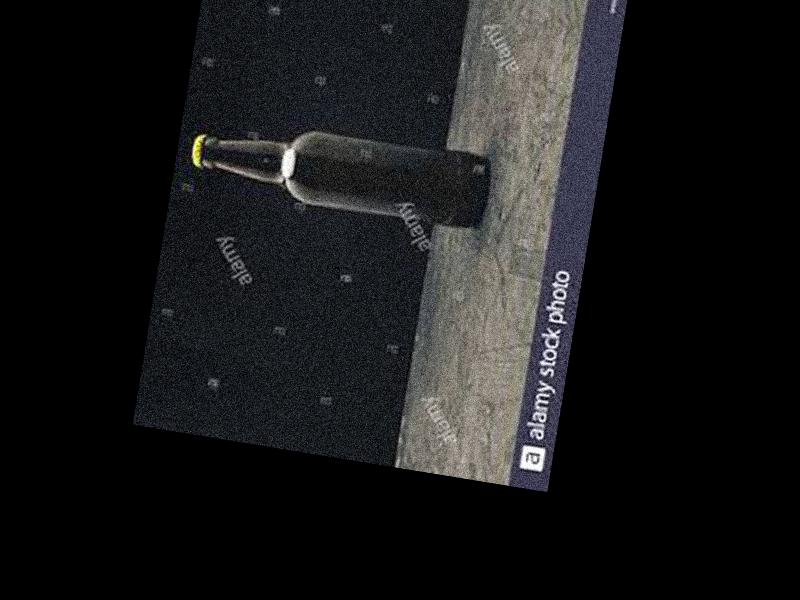Beer: (188, 110, 491, 225)
